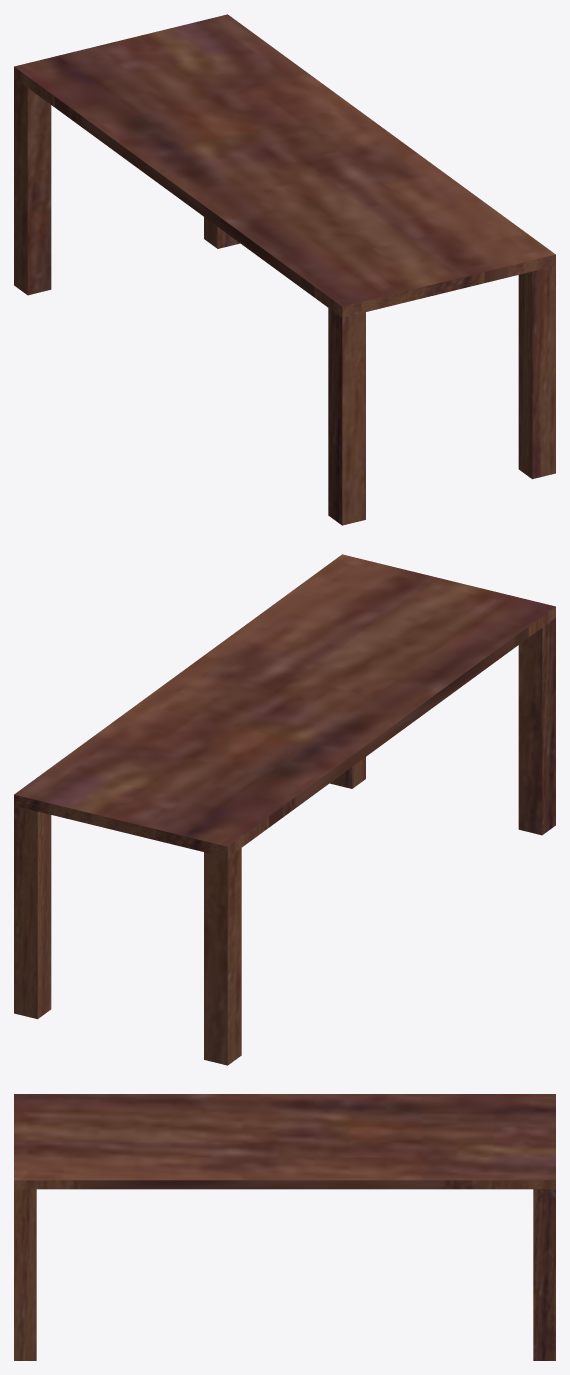
File: table.glb
3 renders of one model, top to bottom at view 1: azimuth 30°, elevation 25°; view 2: azimuth 150°, elevation 25°; view 3: azimuth 270°, elevation 25°, orthographic. The views are drawn at different scales.
Parts seen in each view (by area): view 1: Cube-col; view 2: Cube-col; view 3: Cube-col.
Boxes of the visible parts, x1,y1,x2,y2 form: Cube-col: (14, 14, 555, 525); Cube-col: (14, 554, 555, 1065); Cube-col: (14, 1094, 555, 1360).
Size of the model in its own units: 3.16 by 3.09 by 8.4.
1 material, 1 textured.
